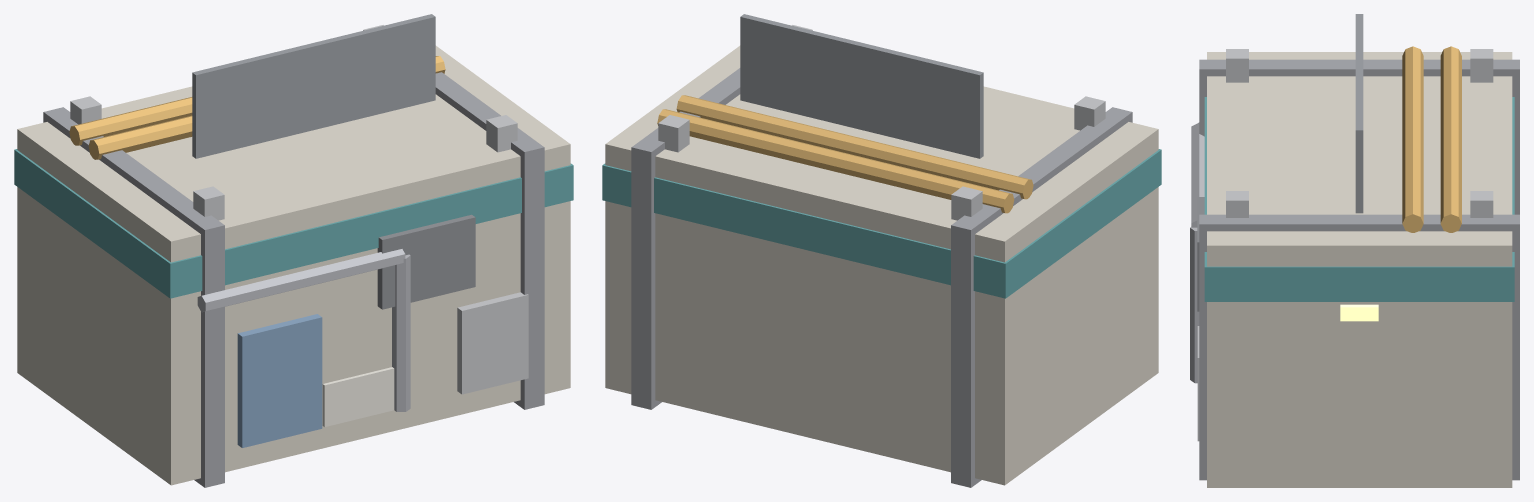
Rendered from utility_module.glb.
3 views of the same model, side by side, from view 1: azimuth 30°, elevation 25°; view 2: azimuth 150°, elevation 25°; view 3: azimuth 270°, elevation 25° (orthographic).
Visible parts, largest first — view 1: body, band, radfin_a, radfin_b, hatch_a, rib_a, rib_f, hatch_b, vent, pipe_side, pipe_top, plate (+1 smaller); view 2: body, band, pipe_top, radfin_a, radfin_b, rib_a, rib_f, lugs; view 3: body, band, rib_f, pipe_top, rib_a, lugs, pipe_side, radfin_b, status, radfin_a, vent.
Boxes of the visible parts, x1,y1,x2,y2 form: body: (17, 45, 570, 485); band: (14, 149, 573, 298); radfin_a: (192, 43, 315, 158); radfin_b: (312, 14, 435, 129); hatch_a: (237, 314, 322, 447); rib_a: (43, 107, 224, 487); rib_f: (435, 72, 544, 409); hatch_b: (457, 292, 528, 394); vent: (377, 214, 475, 309); pipe_side: (197, 249, 410, 411); pipe_top: (69, 56, 445, 159); plate: (322, 367, 394, 427); body: (605, 45, 1158, 485); band: (602, 149, 1161, 298); pipe_top: (657, 95, 1033, 213); radfin_a: (860, 43, 983, 158); radfin_b: (740, 14, 863, 129); rib_a: (951, 107, 1132, 487); rib_f: (631, 68, 740, 409); lugs: (658, 25, 1105, 220); body: (1207, 52, 1512, 487); band: (1204, 97, 1514, 301); rib_f: (1199, 214, 1519, 480); pipe_top: (1402, 46, 1461, 232); rib_a: (1199, 59, 1519, 214); lugs: (1226, 49, 1493, 217); pipe_side: (1190, 122, 1204, 383); radfin_b: (1355, 72, 1363, 213); status: (1340, 304, 1378, 321); radfin_a: (1355, 14, 1363, 71); vent: (1197, 197, 1204, 311).
Bounding box in the file's own units: 6.12 × 4.85 × 4.32.
